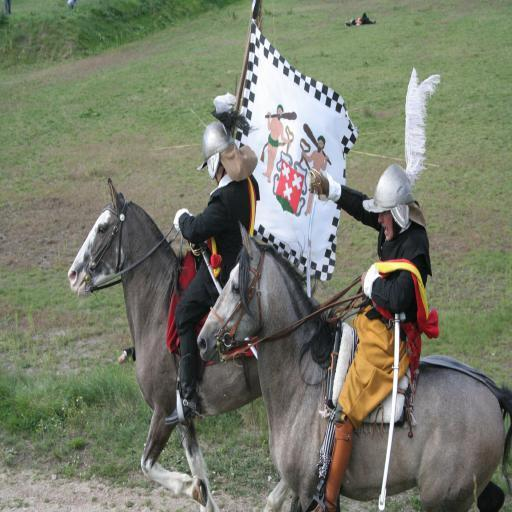horse: (195, 218, 511, 511), (66, 174, 264, 512)
